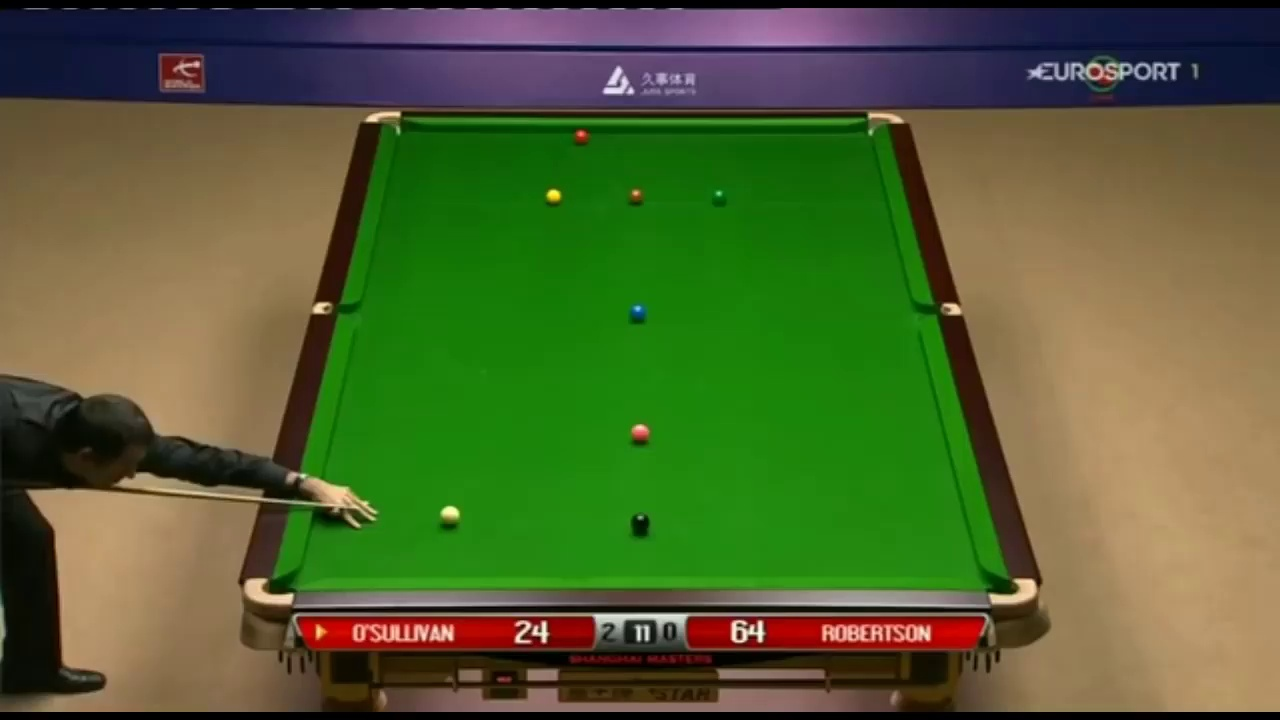ball: (629, 422, 651, 445), (627, 300, 647, 322), (630, 512, 650, 533), (441, 503, 460, 523), (569, 128, 588, 142), (544, 187, 561, 201), (709, 188, 725, 201), (627, 190, 641, 203)
